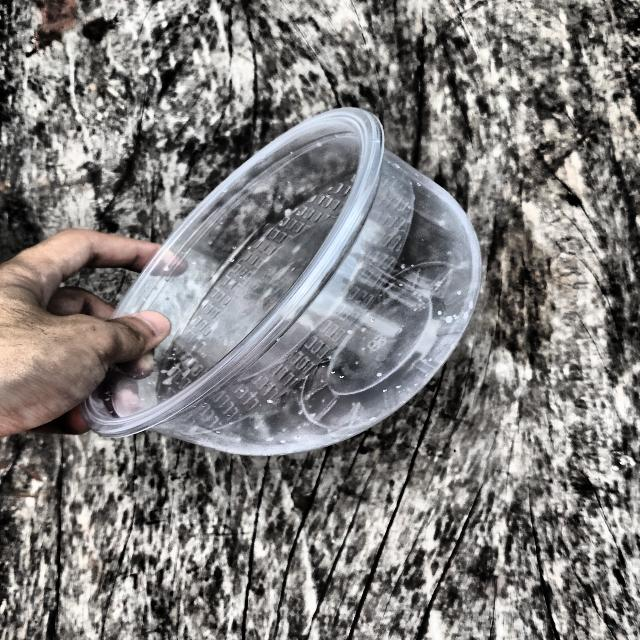plastic container: (64, 92, 501, 473)
